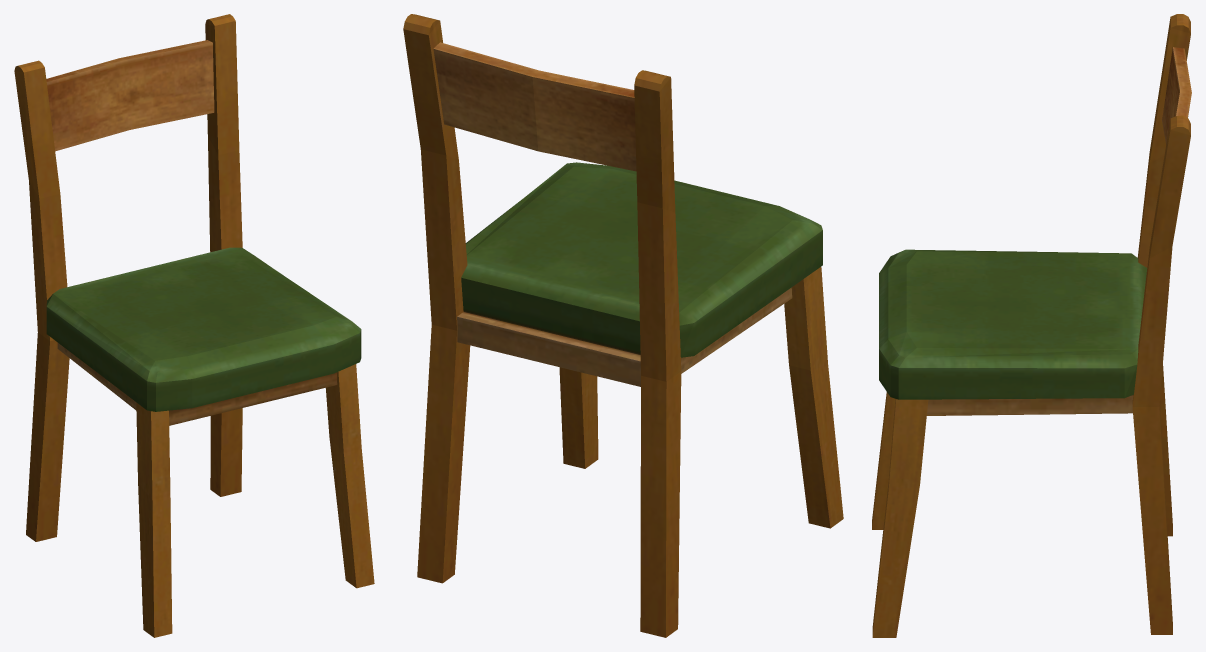
File: Chair (Green Wooden) (DR).obj
3 renders of one model, left to right at view 1: azimuth 30°, elevation 25°; view 2: azimuth 150°, elevation 25°; view 3: azimuth 270°, elevation 25°, orthographic. The views are drawn at different scales.
Parts seen in each view (by area): view 1: rdmobj01_model\om\om0; view 2: rdmobj01_model\om\om0; view 3: rdmobj01_model\om\om0.
Part boxes in pixels (x1=…): rdmobj01_model\om\om0: x1=14, y1=14, x2=374, y2=637; rdmobj01_model\om\om0: x1=403, y1=14, x2=843, y2=637; rdmobj01_model\om\om0: x1=872, y1=14, x2=1191, y2=637.
Bounding box in the file's own units: 0.5451 × 1.1 × 0.6268.
